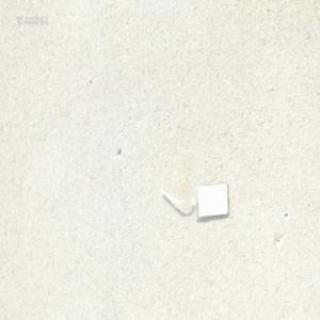LuggageTagtrack_idkeyframe: (156, 180, 228, 221)
